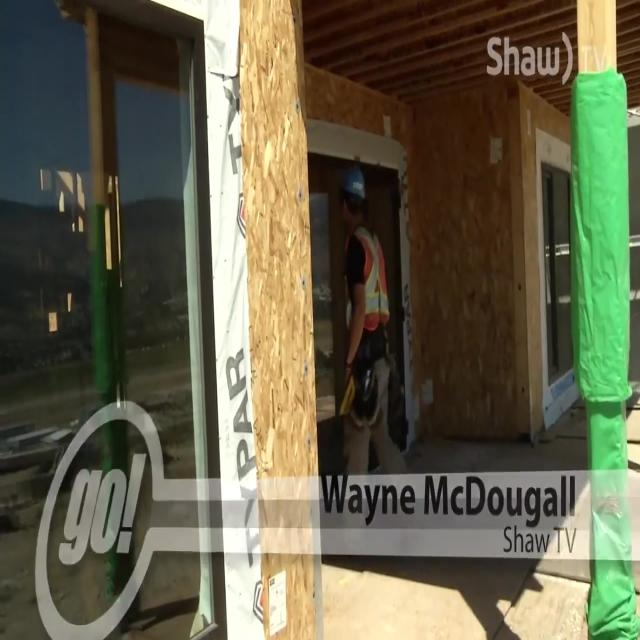Reflective-Jacket: (338, 223, 398, 370)
Safety-Helmet: (336, 160, 372, 211)
